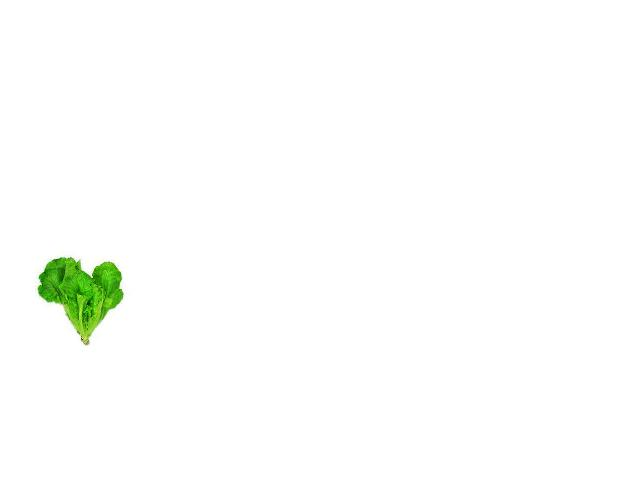lettuce: (33, 252, 126, 347)
